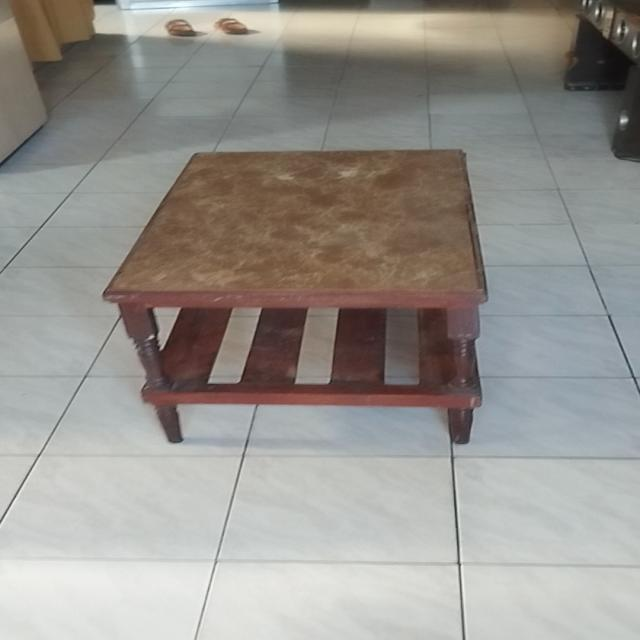table: (101, 146, 493, 444)
